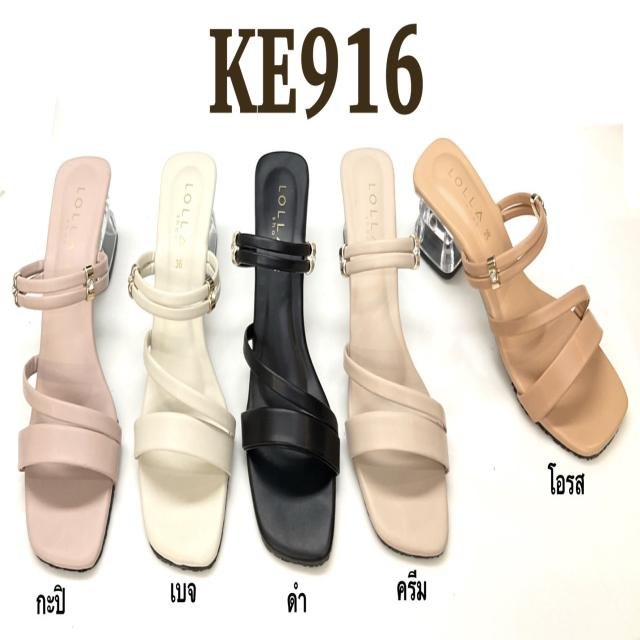bej: (128, 154, 237, 575)
black: (235, 151, 338, 564)
cream: (340, 148, 450, 561)
kapi: (14, 159, 123, 575)
orot: (414, 136, 628, 464)
